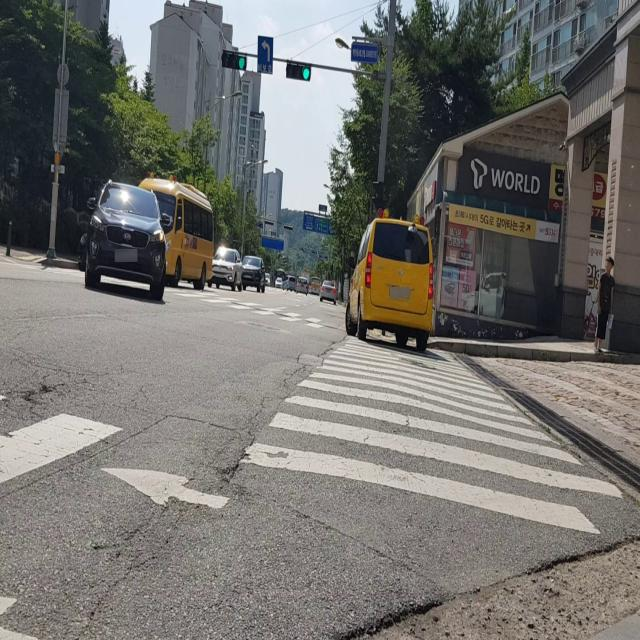횡단보도: (239, 330, 625, 540), (172, 286, 330, 328)
